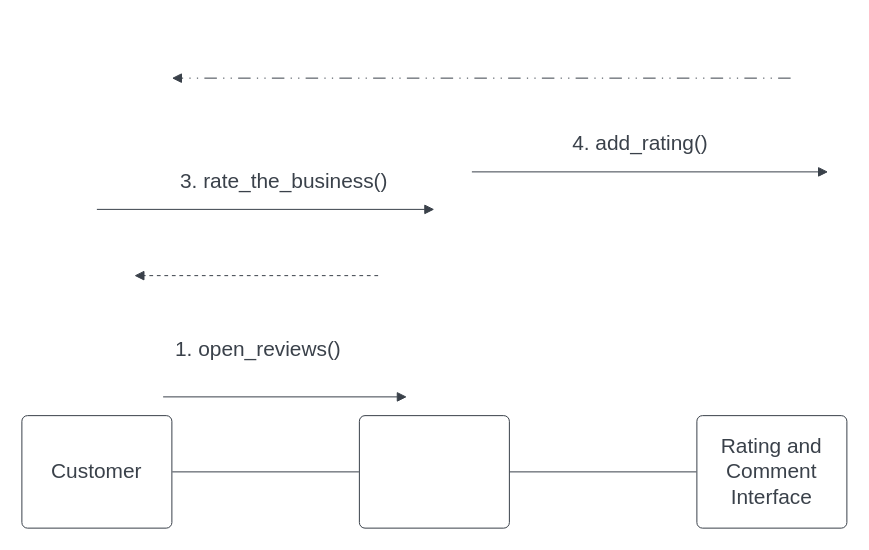
Image size: 869x550. Some labels were removed from this diagram. Here are the shapes that lost their labels. From the top down, the centre of each, then its label:
the point at 400,49: rating_successfully _added
the point at 283,246: 2.display_review
the point at 433,471: Business
